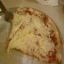pizza: (7, 7, 62, 64)
